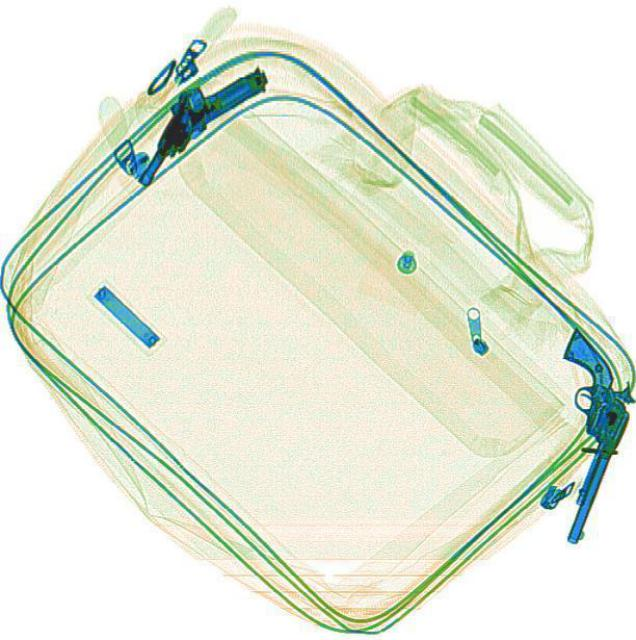Gun: (112, 47, 269, 189), (519, 366, 633, 544)
